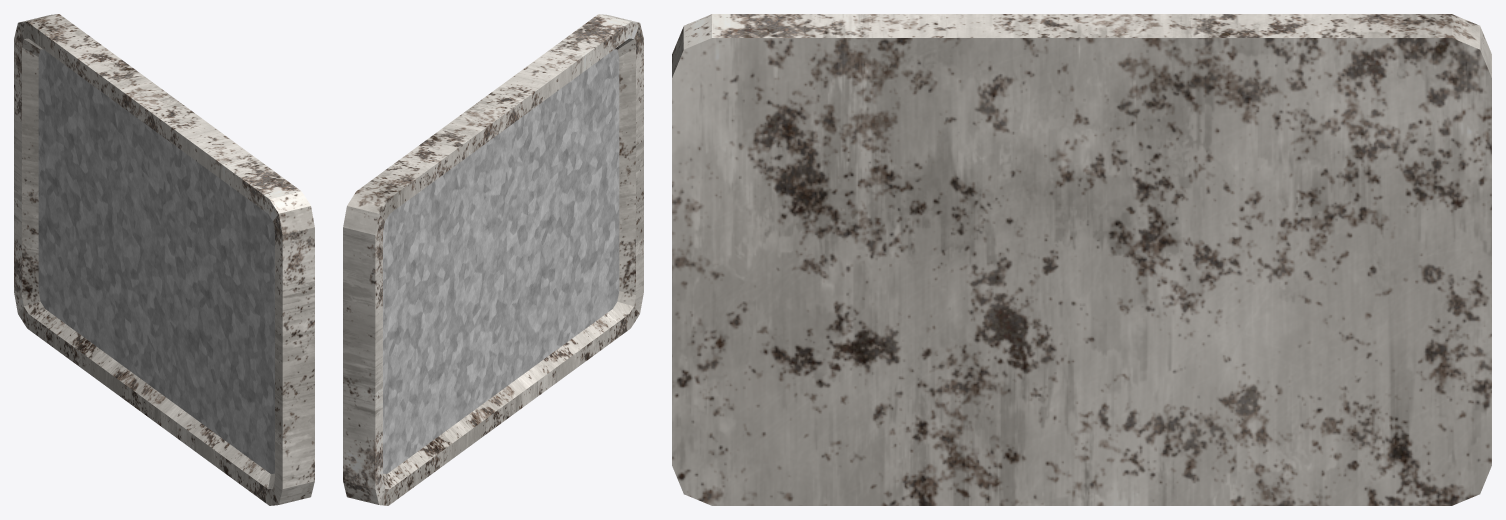
Rendered from ToolRack.fbx.
The picture shows the model from 3 angles, left to right: view 1: azimuth 30°, elevation 25°; view 2: azimuth 150°, elevation 25°; view 3: azimuth 270°, elevation 25°; orthographic projection. The views are drawn at different scales.
Parts seen in each view (by area): view 1: ToolRack; view 2: ToolRack; view 3: ToolRack.
Part boxes in pixels (left/top/right/bottom): ToolRack: left=14, top=14, right=314, bottom=505; ToolRack: left=343, top=14, right=643, bottom=505; ToolRack: left=672, top=14, right=1491, bottom=505.
Bounding box in the file's own units: 14.11 × 128 × 204.
